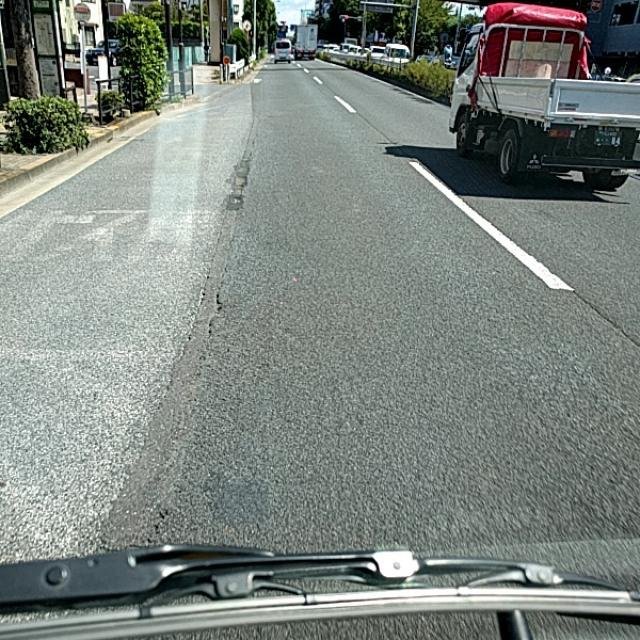pothole: (166, 312, 205, 396)
